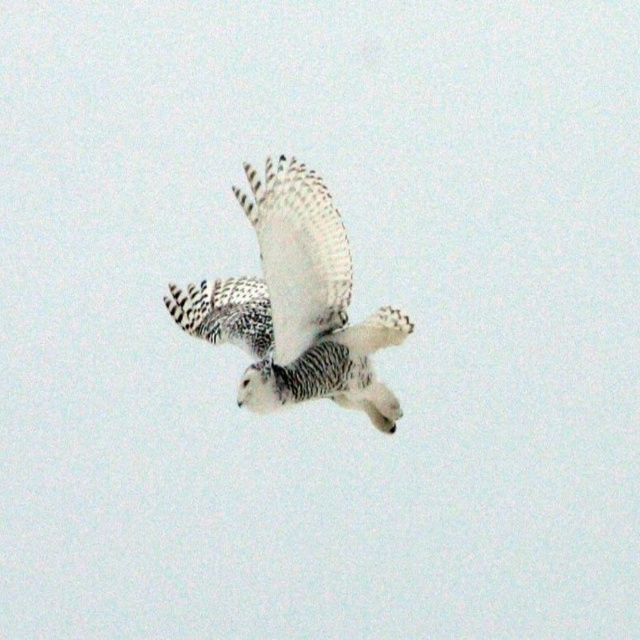Owl: (166, 151, 415, 434)
